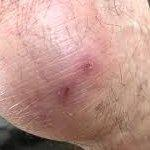Ants: (47, 75, 76, 108), (75, 57, 96, 74)
